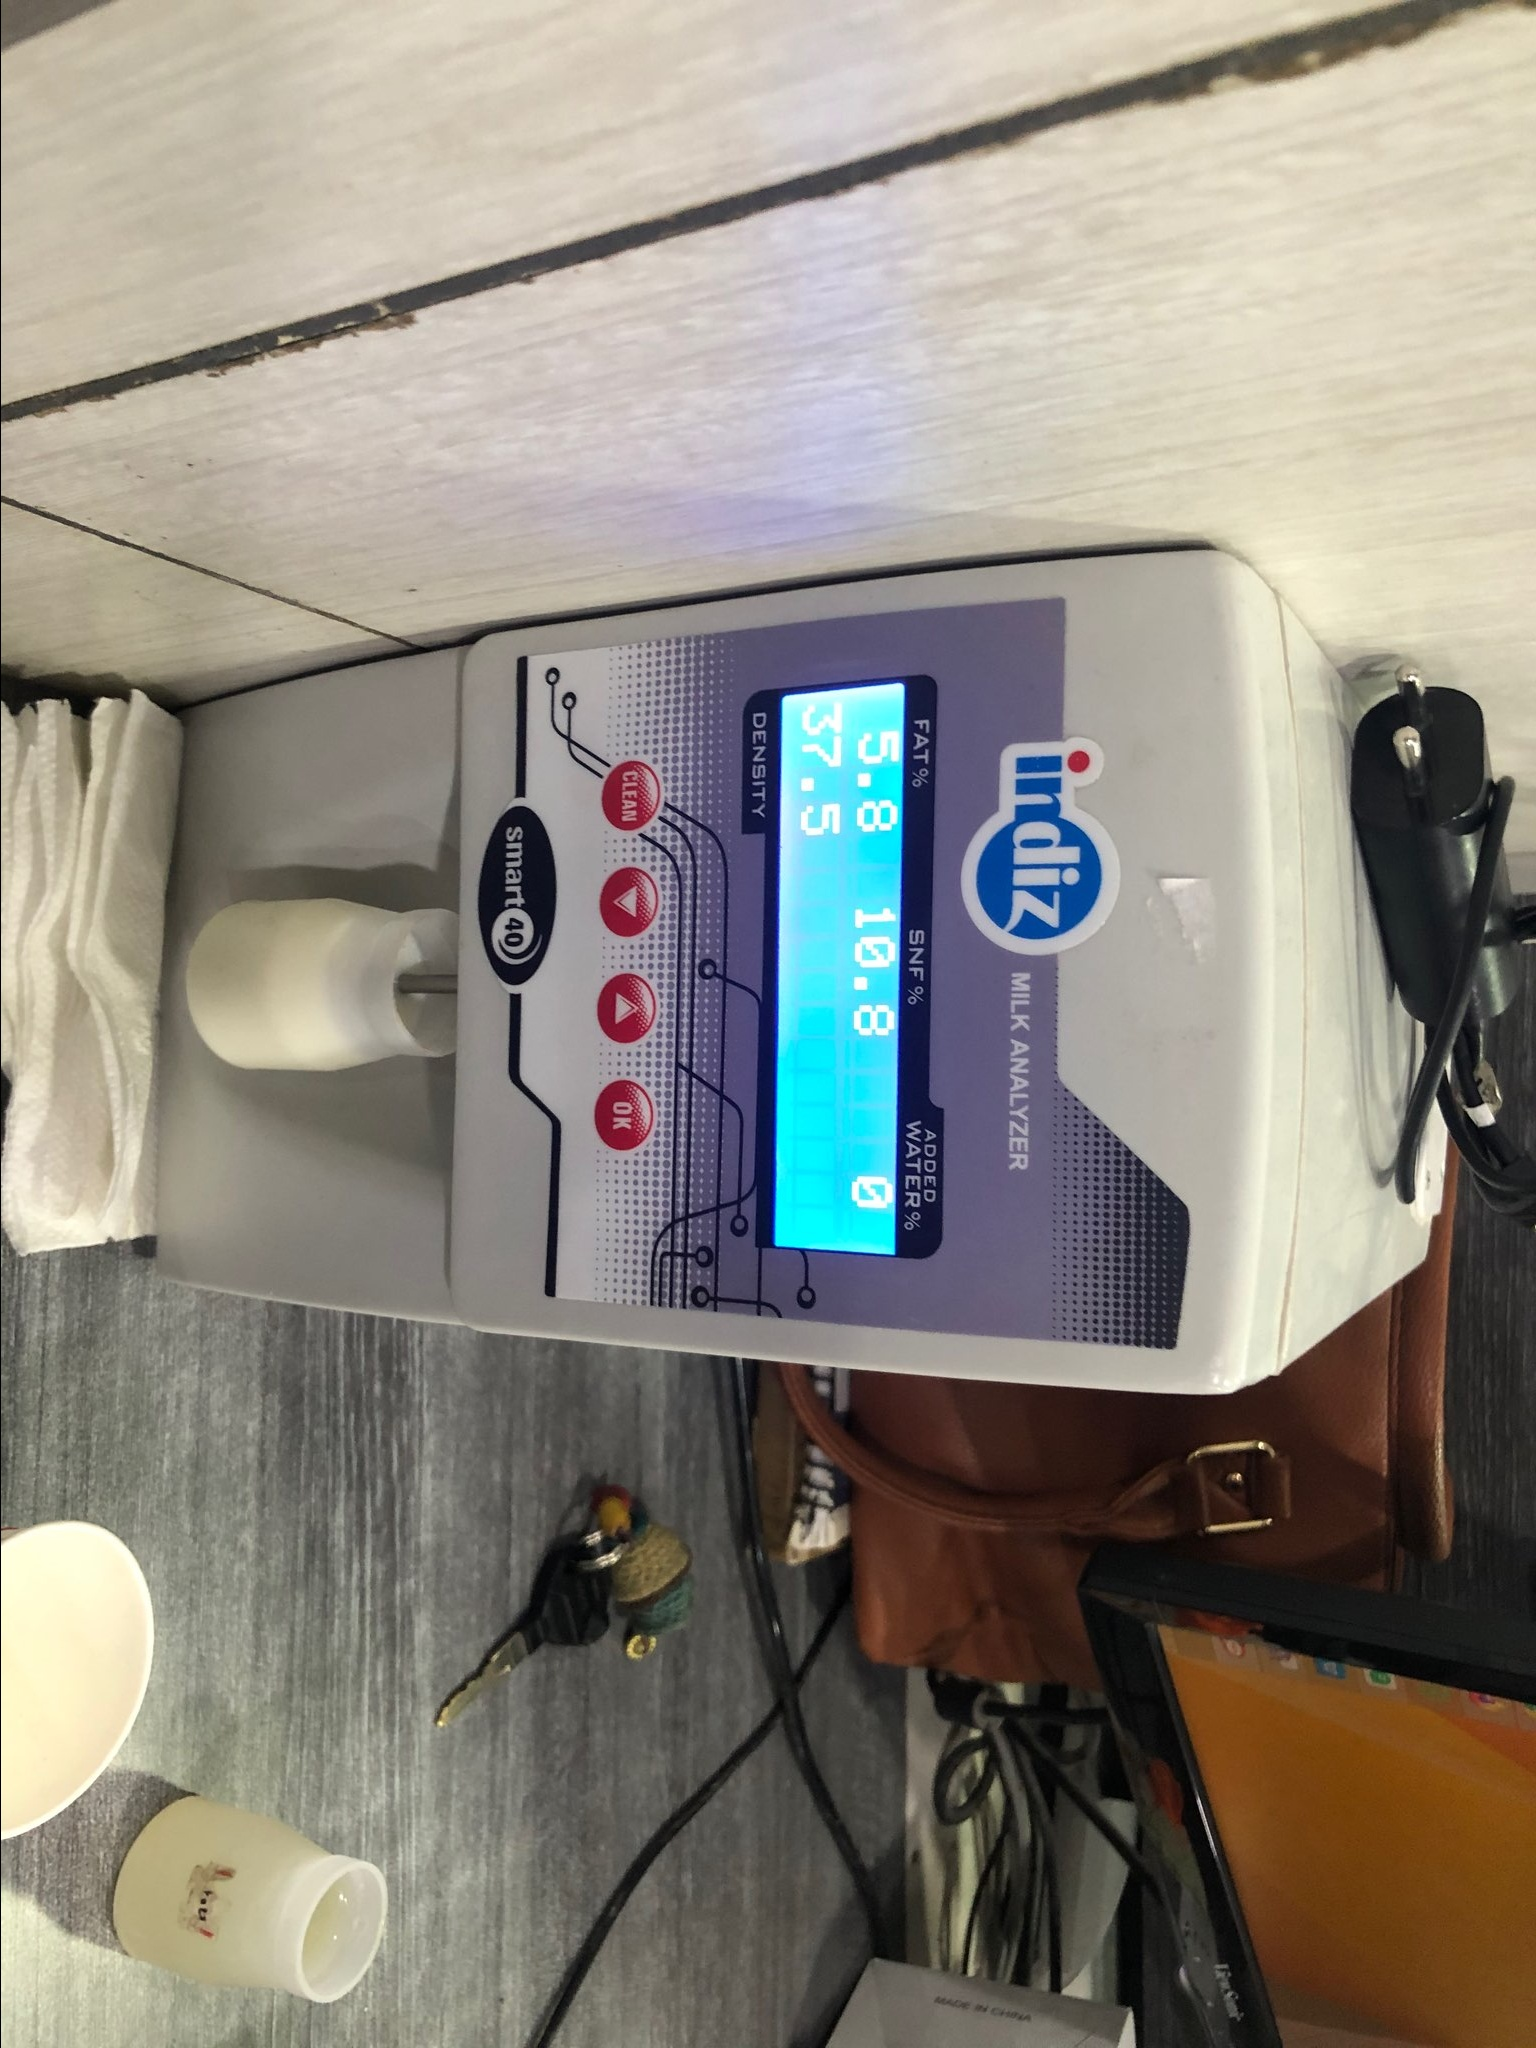lcd: (737, 661, 963, 1288)
